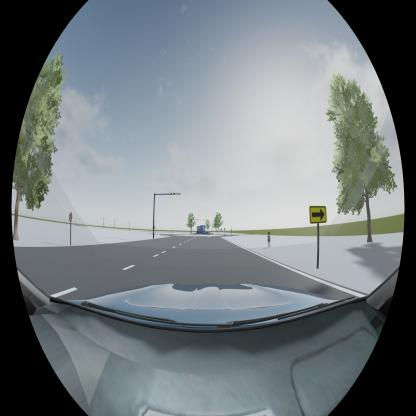Red Light: (171, 191, 176, 196)
Speed Limit 30: (69, 212, 72, 221)
